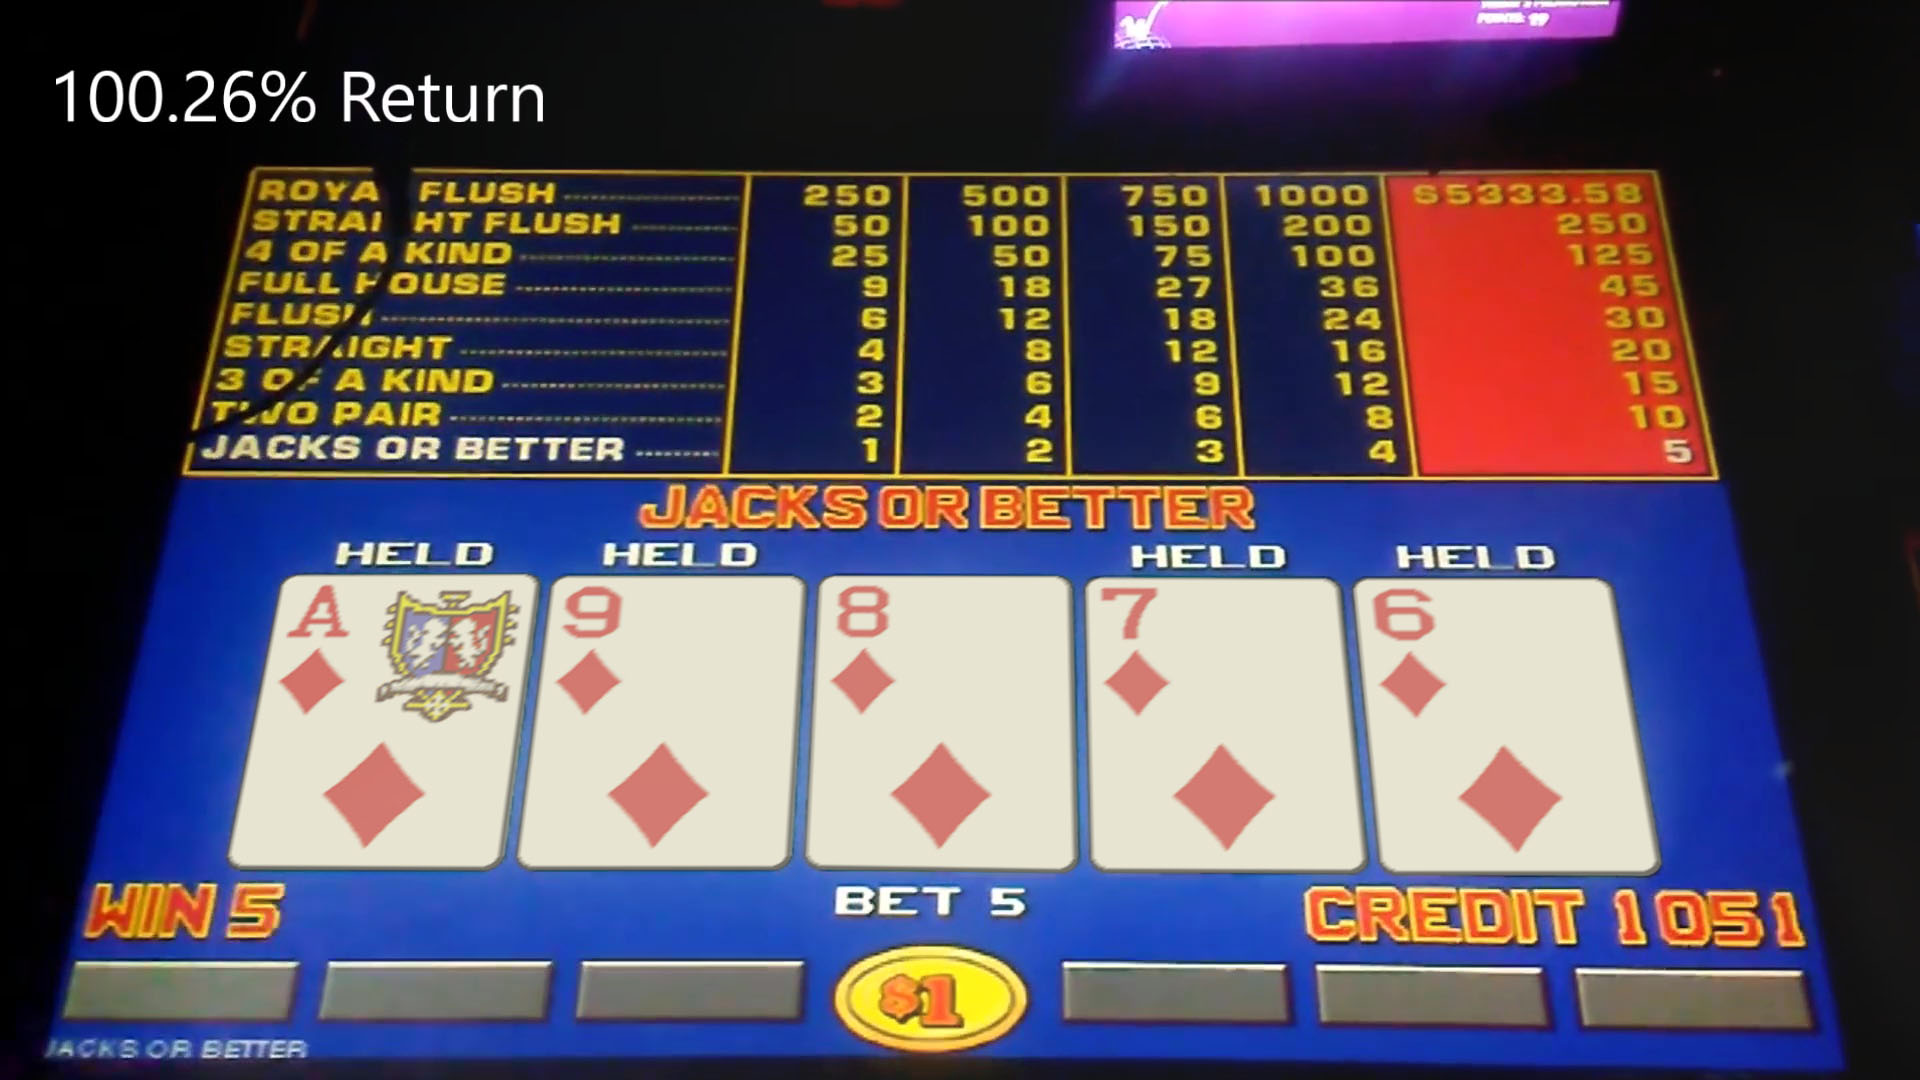D6: (1373, 582, 1625, 872)
D7: (1091, 580, 1348, 872)
D8: (811, 575, 1076, 869)
D9: (546, 575, 795, 866)
DA: (266, 576, 506, 865)
